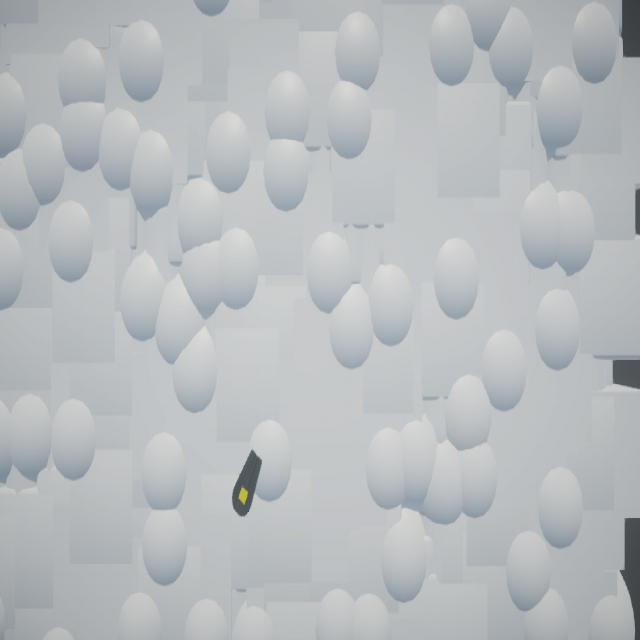handle_folk: (233, 450, 264, 518)
